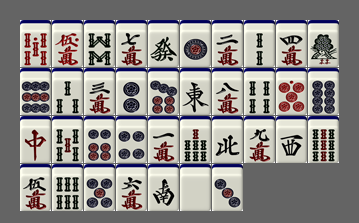0m: (52, 20, 83, 67)
0p: (276, 68, 307, 115)
0s: (20, 20, 51, 67)
1m: (148, 116, 179, 163)
1p: (180, 20, 211, 67)
1s: (308, 20, 339, 67)
1z: (180, 68, 211, 115)
2m: (212, 20, 243, 67)
2p: (116, 68, 147, 115)
2s: (244, 20, 275, 67)
2z: (148, 164, 179, 211)
3m: (84, 68, 115, 115)
3p: (212, 164, 243, 211)
3s: (52, 68, 83, 115)
3z: (276, 116, 307, 163)
4m: (276, 20, 307, 67)
4p: (116, 116, 147, 163)
4s: (244, 68, 275, 115)
4z: (212, 116, 243, 163)
5m: (20, 164, 51, 211)
5p: (84, 164, 115, 211)
5s: (52, 116, 83, 163)
5z: (180, 164, 211, 211)
6m: (116, 164, 147, 211)
6p: (84, 116, 115, 163)
6s: (52, 164, 83, 211)
6z: (148, 20, 179, 67)
7m: (116, 20, 147, 67)
7p: (148, 68, 179, 115)
7s: (180, 116, 211, 163)
7z: (20, 116, 51, 163)
8m: (212, 68, 243, 115)
8p: (308, 68, 339, 115)
8s: (84, 20, 115, 67)
9m: (244, 116, 275, 163)
9p: (20, 68, 51, 115)
9s: (308, 116, 339, 163)
